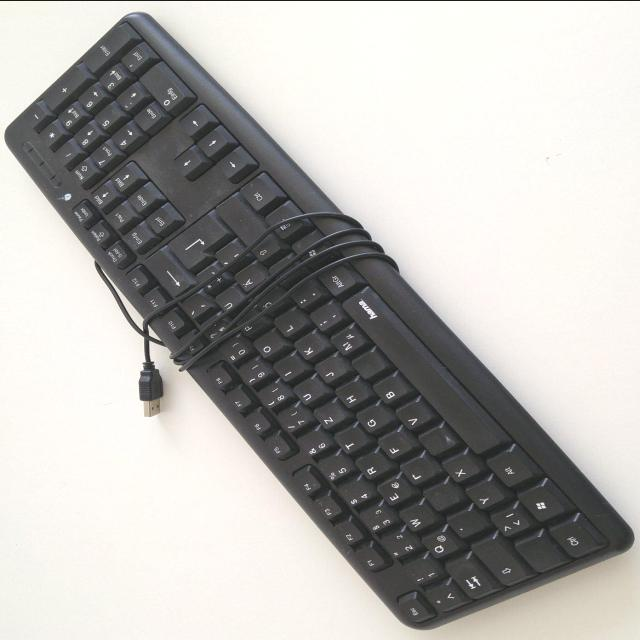0: (217, 336, 252, 365)
1: (407, 556, 441, 585)
2: (379, 529, 419, 558)
3: (357, 505, 395, 533)
4: (334, 481, 372, 509)
5: (315, 456, 353, 483)
6: (295, 430, 331, 460)
7: (275, 406, 310, 434)
8: (254, 382, 290, 410)
9: (236, 359, 270, 387)
a: (448, 509, 488, 540)
accent: (177, 294, 212, 322)
ae: (232, 263, 266, 294)
alt-left: (484, 447, 538, 487)
altgr-right: (318, 257, 360, 297)
b: (371, 374, 409, 406)
c: (417, 425, 455, 457)
caret: (424, 583, 466, 611)
comma: (307, 301, 342, 332)
d: (398, 454, 438, 485)
del: (141, 248, 191, 298)
e: (375, 476, 415, 507)
enter: (165, 213, 228, 271)
f: (375, 432, 413, 461)
g: (355, 404, 391, 435)
h: (333, 380, 369, 410)
hash: (213, 239, 243, 271)
i: (271, 354, 305, 383)
j: (313, 356, 348, 385)
k: (293, 333, 327, 362)
keyboard: (0, 9, 640, 636)
l: (272, 309, 305, 338)
less: (488, 507, 530, 538)
m: (328, 325, 366, 356)
minus: (269, 256, 303, 287)
n: (349, 346, 387, 380)
o: (252, 331, 284, 361)
oe: (253, 284, 287, 315)
p: (238, 313, 266, 337)
plus: (194, 265, 227, 292)
point: (289, 279, 323, 310)
q: (420, 528, 460, 559)
r: (353, 451, 389, 481)
s: (422, 481, 462, 512)
shift-left: (512, 528, 568, 572)
shift-lock: (471, 537, 533, 585)
shift-right: (212, 193, 281, 261)
space: (340, 285, 508, 454)
ss: (199, 314, 231, 343)
strg-left: (547, 519, 601, 559)
strg-right: (238, 172, 280, 213)
t: (332, 427, 368, 456)
tab: (444, 558, 496, 600)
u: (291, 377, 325, 408)
ue: (212, 285, 243, 319)
v: (393, 401, 433, 433)
w: (398, 505, 434, 533)
x: (441, 455, 481, 484)
y: (464, 480, 505, 510)
z: (312, 402, 346, 431)
